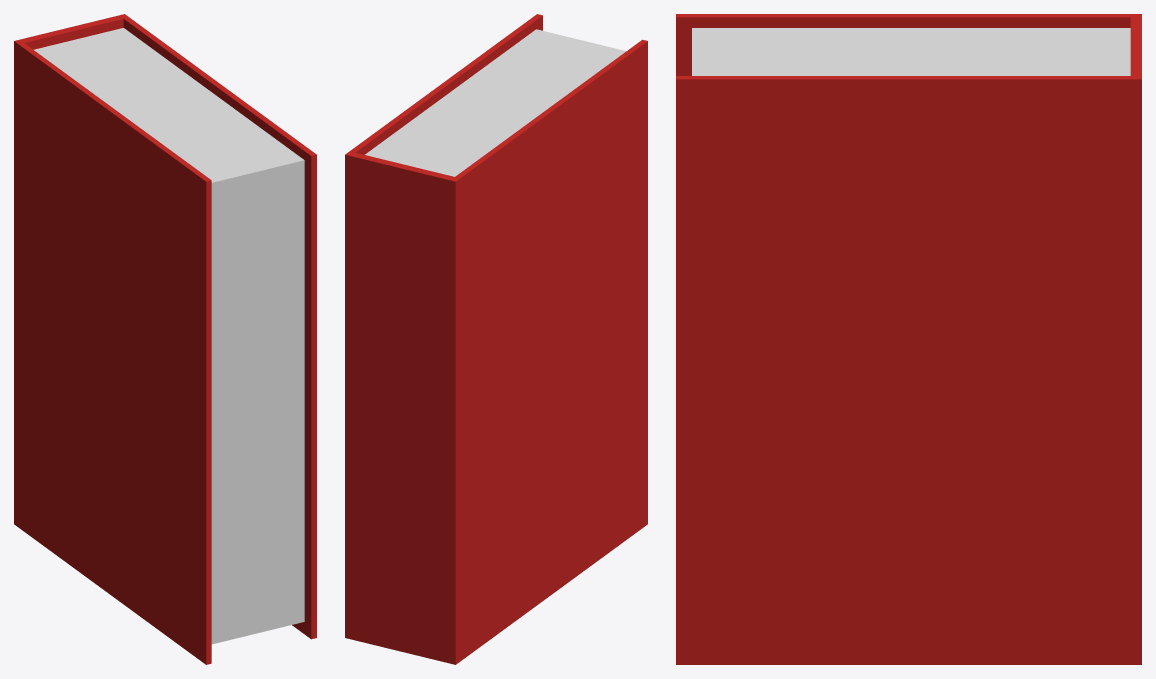
Rendered from BOOK.fbx.
3 views of the same model, side by side, from view 1: azimuth 30°, elevation 25°; view 2: azimuth 150°, elevation 25°; view 3: azimuth 270°, elevation 25° (orthographic). The views are drawn at different scales.
Parts seen in each view (by area): view 1: Cube; view 2: Cube; view 3: Cube.
Boxes of the visible parts, <box> form: Cube: <box>14,14,316,664</box>; Cube: <box>345,14,647,664</box>; Cube: <box>676,14,1141,664</box>.
Bounding box in the file's own units: 0.2099 × 0.8752 × 0.631.
